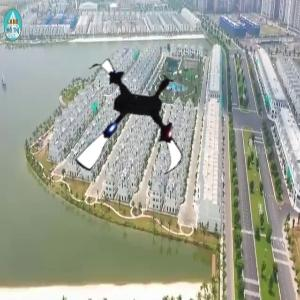drone: (61, 55, 199, 193)
